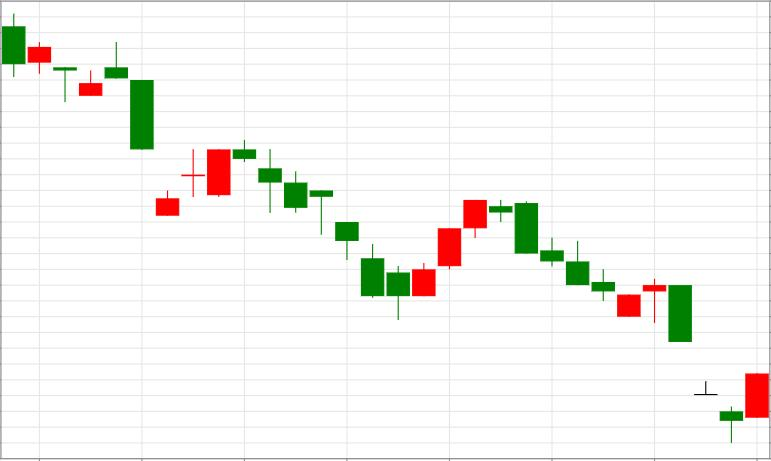three_white_soldiers_rise: (233, 141, 487, 320)
